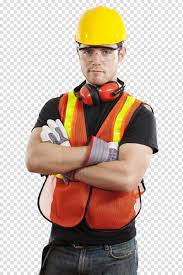Person_wearing_helmet: (64, 0, 133, 57)
